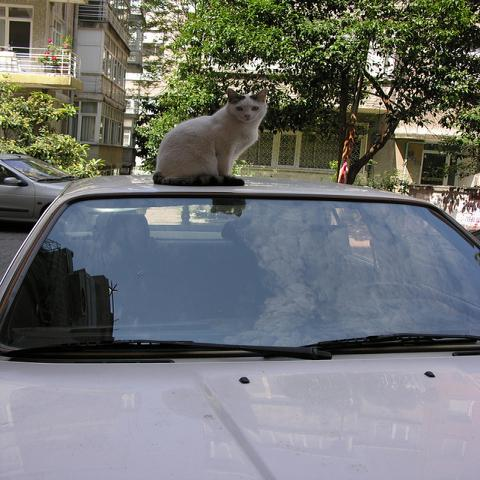car: (0, 173, 479, 476), (2, 153, 88, 222)
